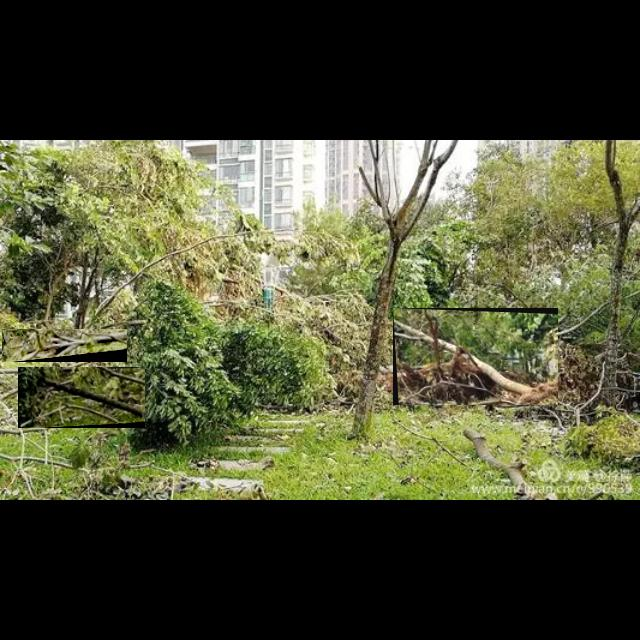Fallen Tree: (393, 308, 559, 406), (18, 367, 146, 429), (2, 329, 128, 363)
